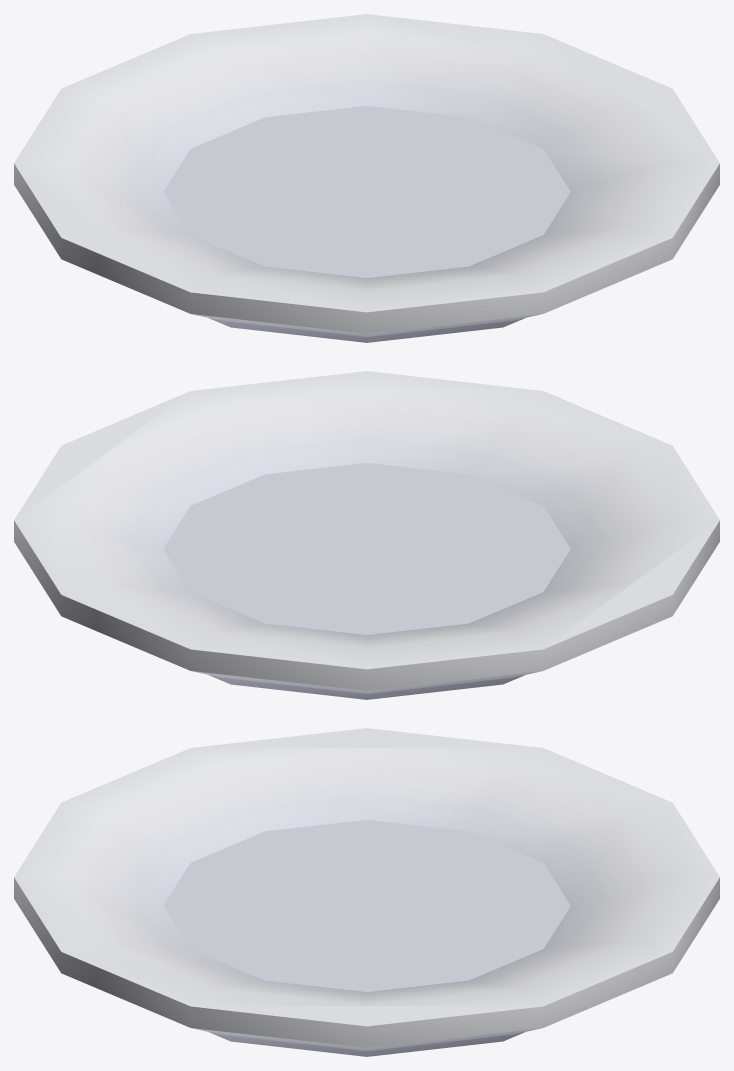
Rendered from kenney-food-plate.glb.
3 views of the same model, one above another, from view 1: azimuth 30°, elevation 25°; view 2: azimuth 150°, elevation 25°; view 3: azimuth 270°, elevation 25° (orthographic).
Parts seen in each view (by area): view 1: plate; view 2: plate; view 3: plate.
Part boxes in pixels (box(x1,y1,x2,y2)): plate: box(14, 14, 719, 342); plate: box(14, 371, 719, 699); plate: box(14, 728, 719, 1056).
Bounding box in the file's own units: 0.8918 × 0.09 × 0.8918.
Materials: 1 (1 with a texture image).
